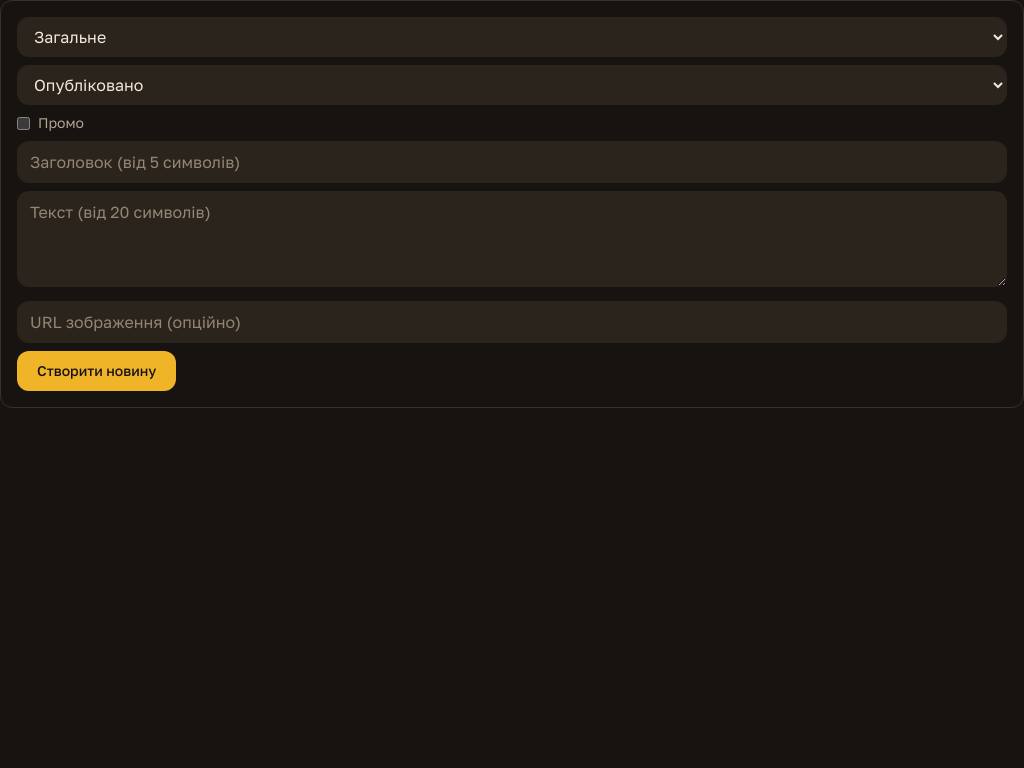
Test: AdminNewsCreateForm › успіх з дефолтами: POST /api/v1/admin/news exact body {category,title,content,status:"published",isPromoted:false} → toast «Новину створено» + refresh + reset
In the field named "Заголовок новини": (512, 162) [17,141,1007,183], type "Заголовок акції вересня"
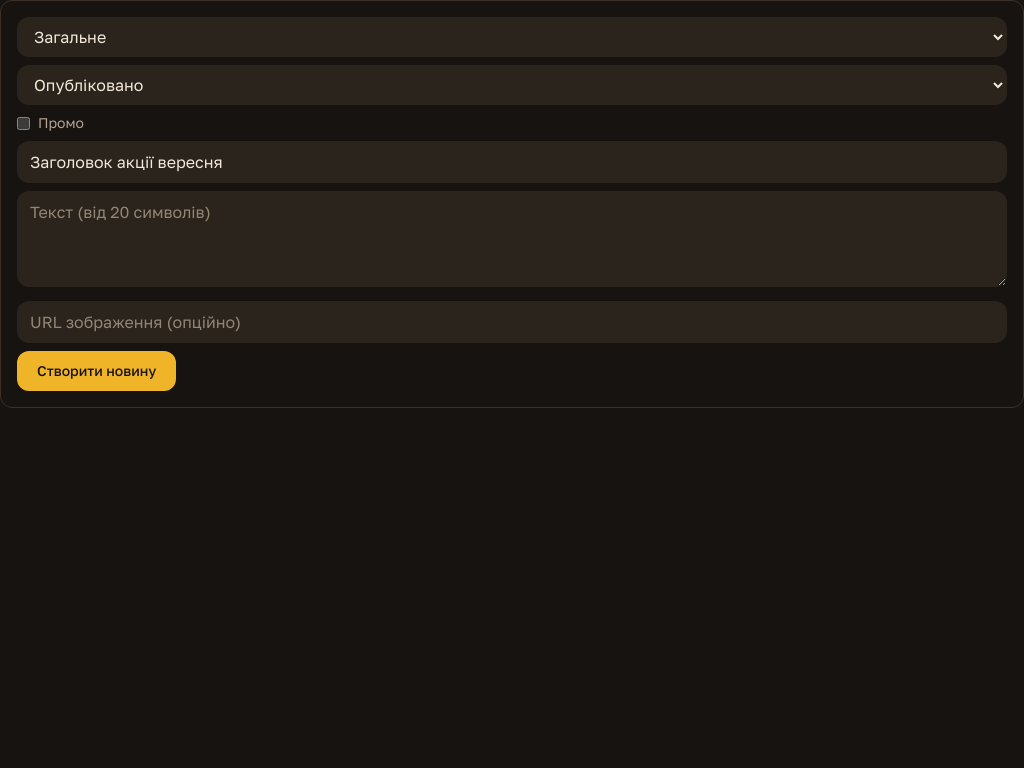
In the text box named "Текст новини": (512, 239) [17,191,1007,287], type "Текст новини, достатньо довгий для валідації"
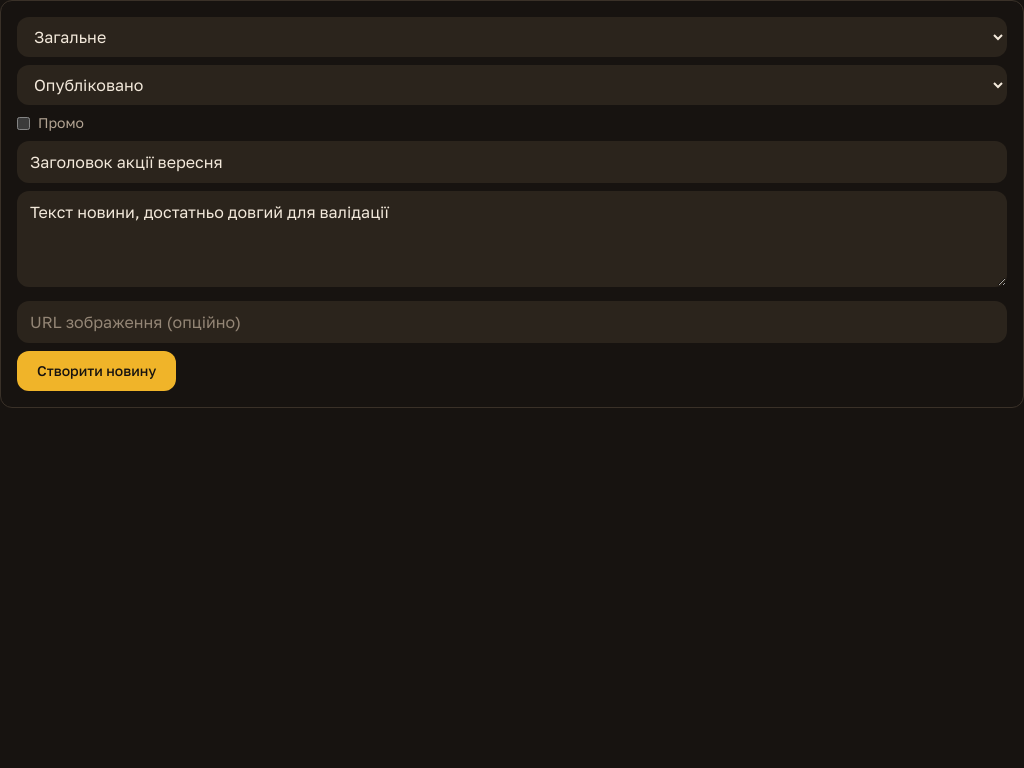
Click the button "Створити новину": (97, 371) [17,351,176,391]
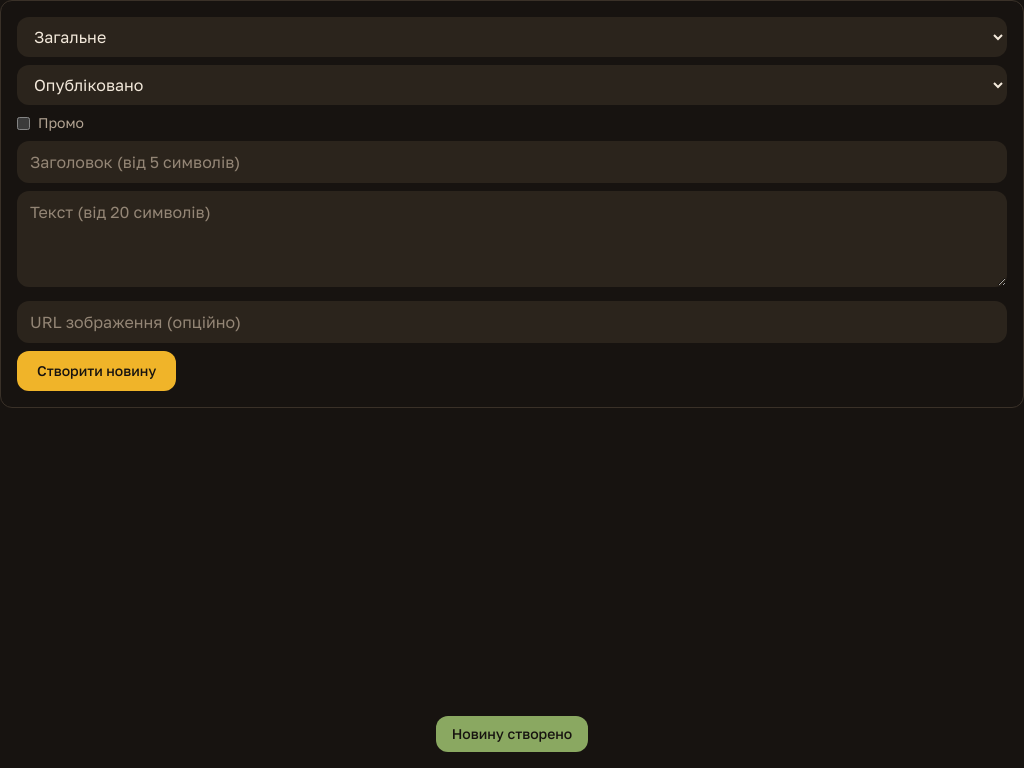
Expected: the dropdown named "Статус публікації" shows "Опубліковано", [17,65,1007,105]
Expected: the text "Новину створено" is shown, [436,716,588,752]
Expected: the field named "Заголовок новини" is empty, [17,141,1007,183]
